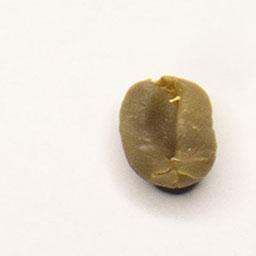peaberry: (115, 73, 220, 194)
